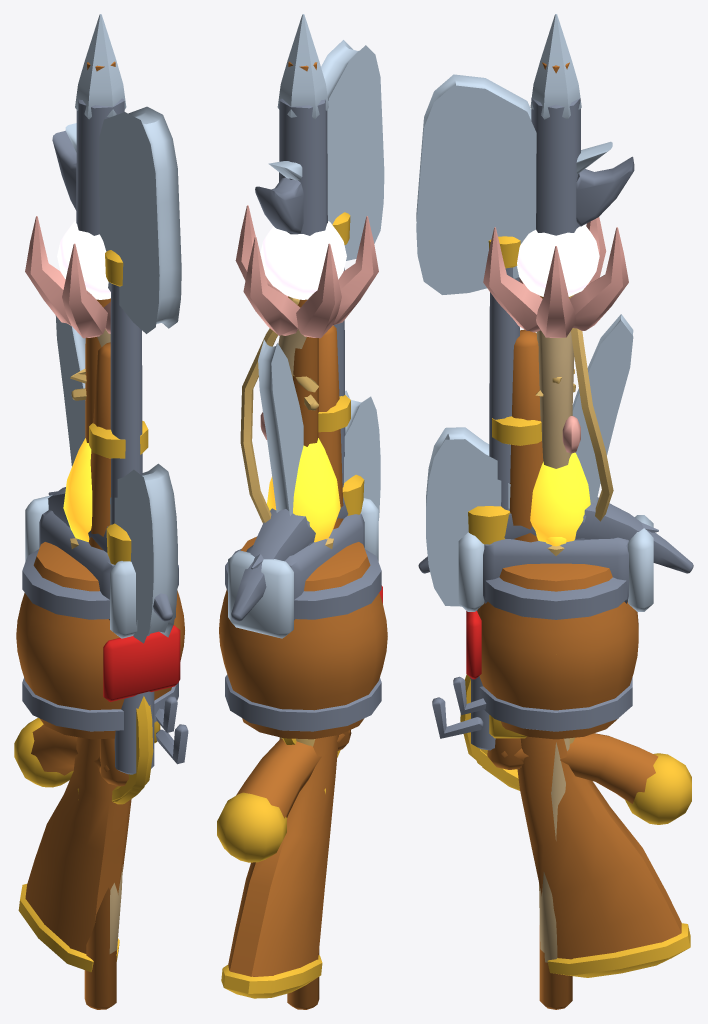
File: weapons.glb
The picture shows the model from 3 angles, left to right: view 1: azimuth 30°, elevation 25°; view 2: azimuth 150°, elevation 25°; view 3: azimuth 270°, elevation 25°; orthographic projection.
Visible parts, largest first — view 1: Halberd, Musket, PowderKeg, TideStaff, Flintlock, BoardingAxe, Hammer, Sabre, Torch, Cutlass, WoodAxe, Pickaxe; view 2: PowderKeg, Halberd, Musket, TideStaff, Flintlock, Hammer, Sabre, Torch, Pickaxe, Harpoon, BoardingAxe, WoodAxe; view 3: Musket, Halberd, PowderKeg, TideStaff, Flintlock, Hammer, BoardingAxe, Sabre, Torch, Pickaxe, Harpoon, WoodAxe (+1 smaller).
Part boxes in pixels (<box>): Halberd: <box>52,14,181,1009</box>; Musket: <box>18,250,177,972</box>; PowderKeg: <box>16,542,184,739</box>; TideStaff: <box>25,216,122,953</box>; Flintlock: <box>14,523,188,787</box>; BoardingAxe: <box>48,463,177,643</box>; Hammer: <box>25,495,175,638</box>; Sabre: <box>55,315,139,804</box>; Torch: <box>63,438,92,548</box>; Cutlass: <box>77,696,153,801</box>; WoodAxe: <box>66,497,140,625</box>; Pickaxe: <box>48,487,172,621</box>; PowderKeg: <box>219,536,387,739</box>; Halberd: <box>255,14,384,1009</box>; Musket: <box>221,212,350,998</box>; TideStaff: <box>235,205,378,746</box>; Flintlock: <box>217,474,364,862</box>; Hammer: <box>228,498,378,638</box>; Sabre: <box>258,339,303,515</box>; Torch: <box>267,438,340,548</box>; Pickaxe: <box>231,497,348,621</box>; Harpoon: <box>240,161,302,523</box>; BoardingAxe: <box>251,390,380,569</box>; WoodAxe: <box>307,441,369,545</box>; Musket: <box>453,236,690,977</box>; Halberd: <box>416,14,634,1009</box>; PowderKeg: <box>466,537,638,739</box>; TideStaff: <box>483,217,628,962</box>; Flintlock: <box>432,506,691,824</box>; Hammer: <box>458,515,653,611</box>; BoardingAxe: <box>426,427,658,606</box>; Sabre: <box>482,314,633,790</box>; Torch: <box>530,452,590,555</box>; Pickaxe: <box>418,497,693,573</box>; Harpoon: <box>569,141,613,521</box>; WoodAxe: <box>449,474,586,592</box>.
Bounding box in the file's own units: 0.33 × 2.13 × 0.5406.
